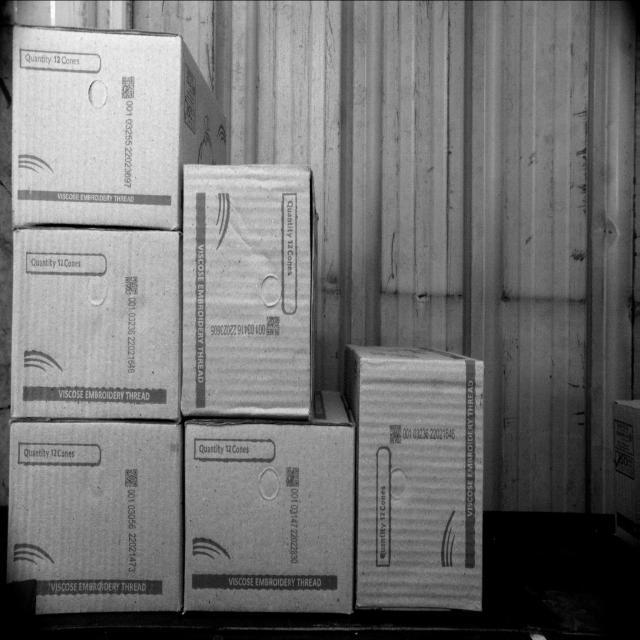box: (0, 422, 180, 614), (358, 356, 486, 616), (9, 227, 179, 418), (185, 164, 312, 417), (15, 25, 176, 224), (186, 426, 356, 610)
